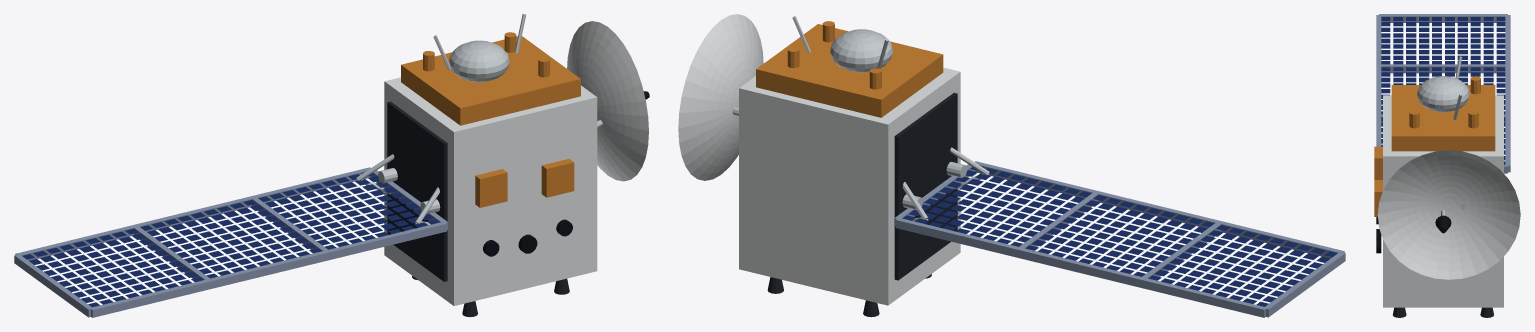
Rendered from MANGALYAAN.glb.
3 views of the same model, side by side, from view 1: azimuth 30°, elevation 25°; view 2: azimuth 150°, elevation 25°; view 3: azimuth 270°, elevation 25° (orthographic). The views are drawn at different scales.
Visible parts, largest first — view 1: MOM_MAIN_BUS, MOM_SOLAR_CELLS, MOM_SOLAR_FRAMES, MOM_HIGH_GAIN_DISH, MOM_GOLD_TOP_PLATFORM, MOM_DARK_SIDE_PANEL, MOM_FRONT_EQUIPMENT, MOM_TOP_DOME, MOM_FRONT_SENSOR_WINDOWS, MOM_TOP_EQUIPMENT, MOM_SOLAR_SUPPORT_TRUSS, MOM_THRUSTERS; view 2: MOM_MAIN_BUS, MOM_SOLAR_CELLS, MOM_SOLAR_FRAMES, MOM_HIGH_GAIN_DISH, MOM_GOLD_TOP_PLATFORM, MOM_DARK_SIDE_PANEL, MOM_TOP_DOME, MOM_TOP_EQUIPMENT, MOM_SOLAR_SUPPORT_TRUSS, MOM_THRUSTERS; view 3: MOM_HIGH_GAIN_DISH, MOM_MAIN_BUS, MOM_SOLAR_CELLS, MOM_GOLD_TOP_PLATFORM, MOM_SOLAR_FRAMES, MOM_TOP_DOME, MOM_TOP_EQUIPMENT, MOM_FRONT_EQUIPMENT, MOM_THRUSTERS, MOM_DISH_FEED, MOM_TOP_ANTENNAS, MOM_FRONT_SENSOR_WINDOWS.
Part boxes in pixels (x1,y1,x2,y2): MOM_MAIN_BUS: (384,77,597,305); MOM_SOLAR_CELLS: (22,172,439,307); MOM_SOLAR_FRAMES: (14,167,447,317); MOM_HIGH_GAIN_DISH: (567,21,648,181); MOM_GOLD_TOP_PLATFORM: (401,36,580,125); MOM_DARK_SIDE_PANEL: (387,101,447,281); MOM_FRONT_EQUIPMENT: (475,159,574,207); MOM_TOP_DOME: (449,40,509,82); MOM_FRONT_SENSOR_WINDOWS: (483,219,572,256); MOM_TOP_EQUIPMENT: (423,32,549,77); MOM_SOLAR_SUPPORT_TRUSS: (356,154,439,225); MOM_THRUSTERS: (412,276,569,317); MOM_MAIN_BUS: (739,67,960,305); MOM_SOLAR_CELLS: (902,166,1337,306); MOM_SOLAR_FRAMES: (894,161,1345,317); MOM_HIGH_GAIN_DISH: (678,14,763,180); MOM_GOLD_TOP_PLATFORM: (756,24,943,117); MOM_DARK_SIDE_PANEL: (894,93,957,280); MOM_TOP_DOME: (830,29,893,72); MOM_TOP_EQUIPMENT: (787,21,881,89); MOM_SOLAR_SUPPORT_TRUSS: (902,147,989,221); MOM_THRUSTERS: (767,274,931,317); MOM_HIGH_GAIN_DISH: (1377,150,1520,279); MOM_MAIN_BUS: (1383,95,1503,307); MOM_SOLAR_CELLS: (1381,17,1505,164); MOM_GOLD_TOP_PLATFORM: (1391,85,1495,151); MOM_SOLAR_FRAMES: (1376,14,1510,173); MOM_TOP_DOME: (1417,76,1469,112); MOM_TOP_EQUIPMENT: (1409,76,1480,128); MOM_FRONT_EQUIPMENT: (1374,146,1382,216); MOM_THRUSTERS: (1393,307,1493,317); MOM_DISH_FEED: (1435,209,1451,233); MOM_TOP_ANTENNAS: (1453,56,1462,119); MOM_FRONT_SENSOR_WINDOWS: (1376,217,1381,253).
Bounding box in the file's own units: 5.2 × 2.11 × 1.27.
